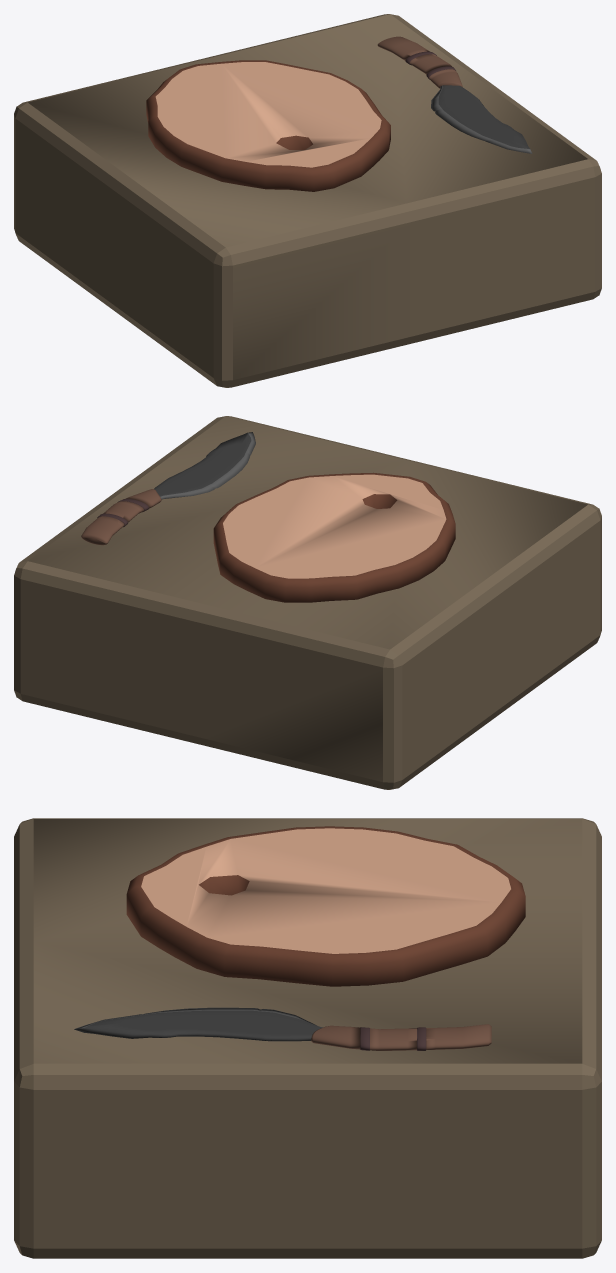
File: Bancada de corte.fbx
The picture shows the model from 3 angles, top to bottom: view 1: azimuth 30°, elevation 25°; view 2: azimuth 150°, elevation 25°; view 3: azimuth 270°, elevation 25°; orthographic projection. The views are drawn at different scales.
Visible parts, largest first — view 1: Cube.101; view 2: Cube.101; view 3: Cube.101.
Boxes of the visible parts, x1=… form: Cube.101: x1=14, y1=14, x2=601, y2=387; Cube.101: x1=14, y1=416, x2=601, y2=789; Cube.101: x1=14, y1=818, x2=601, y2=1258.
Bounding box in the file's own units: 210 × 82.96 × 199.
